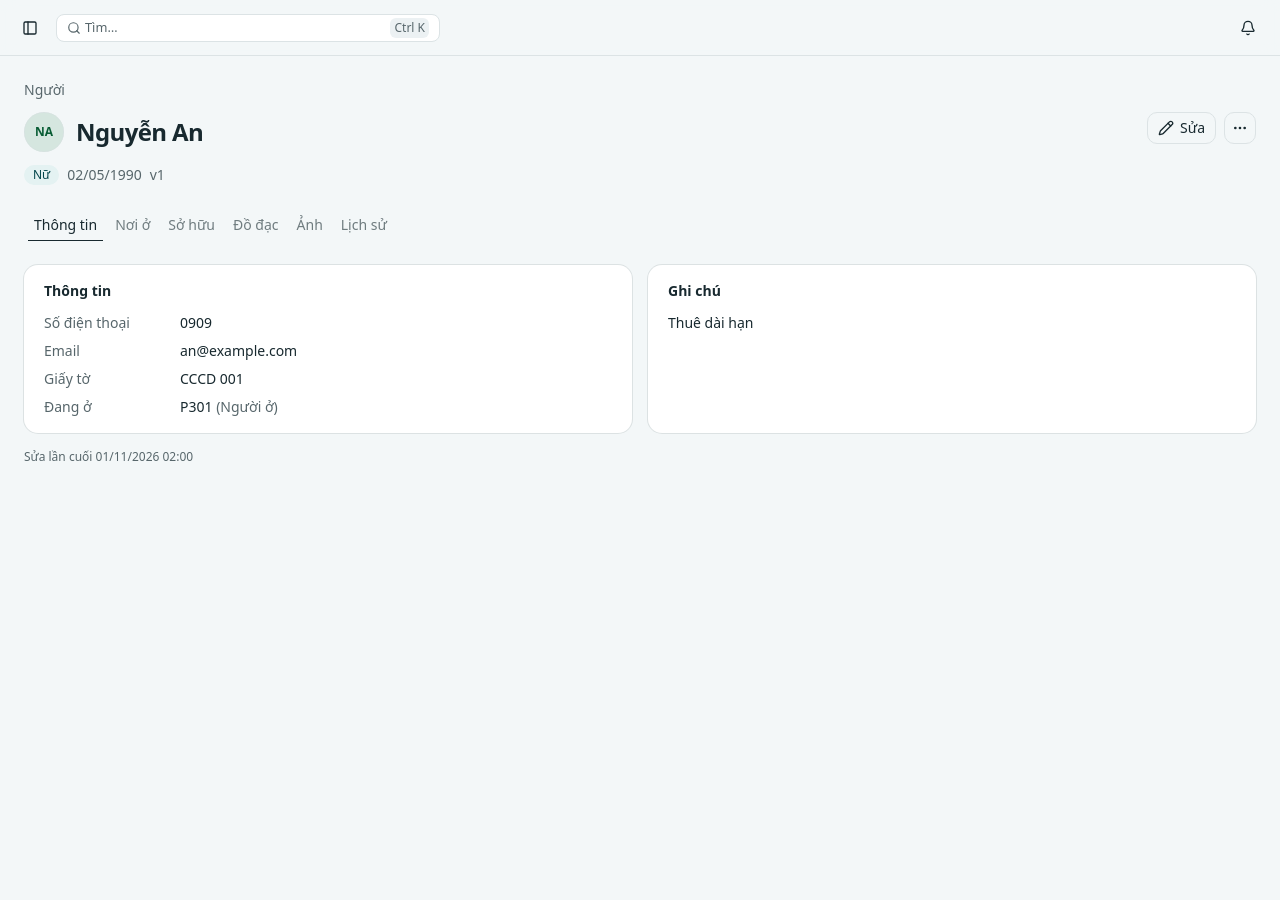
deleteIsBlockedWhileTheyLiveSomewhere
Step 1. Click the button named "Thao tác khác" → [1240, 128], box [1224,112,1256,144]
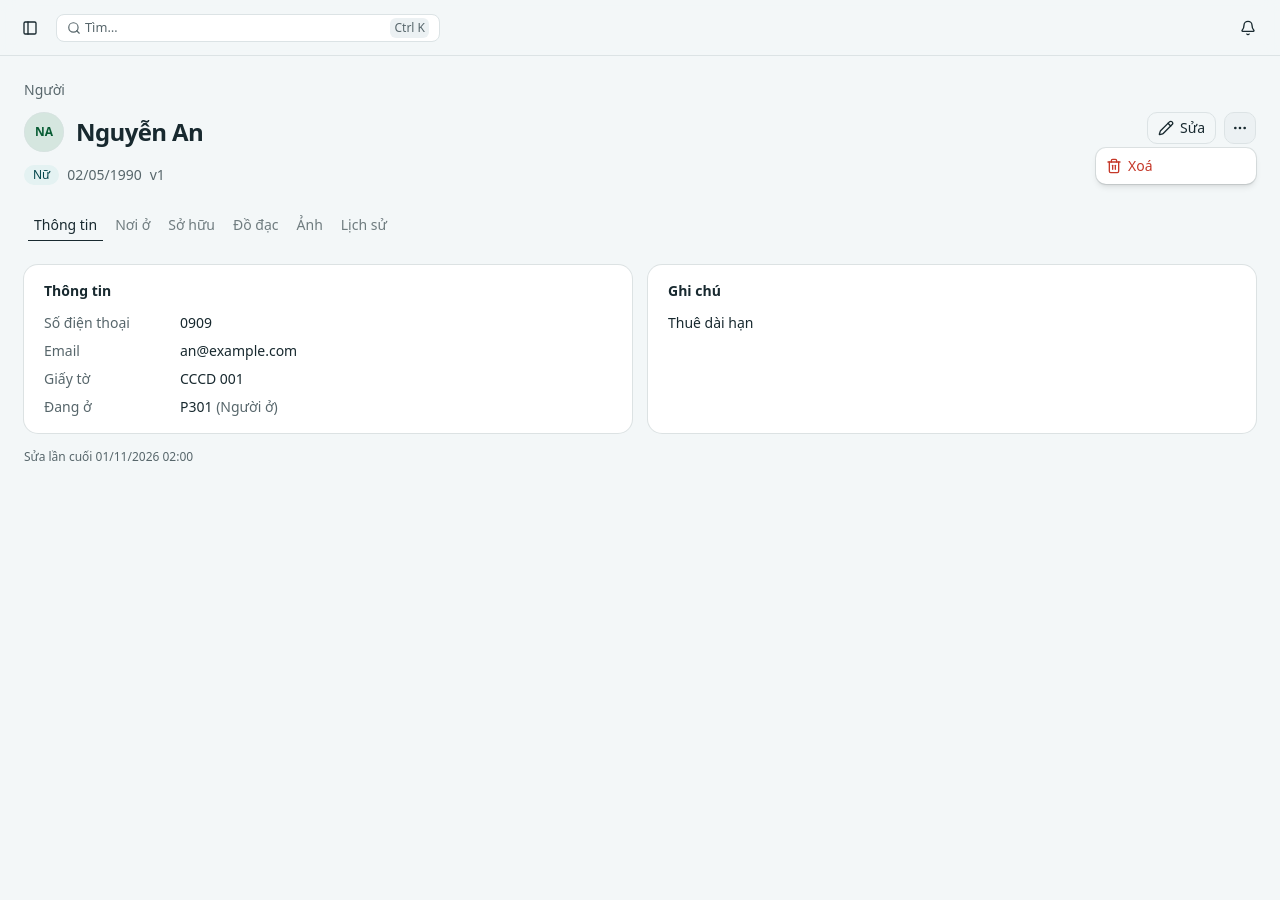
Step 2. Click the menu item "Xoá" → [1129, 166], box [1106,156,1152,175]
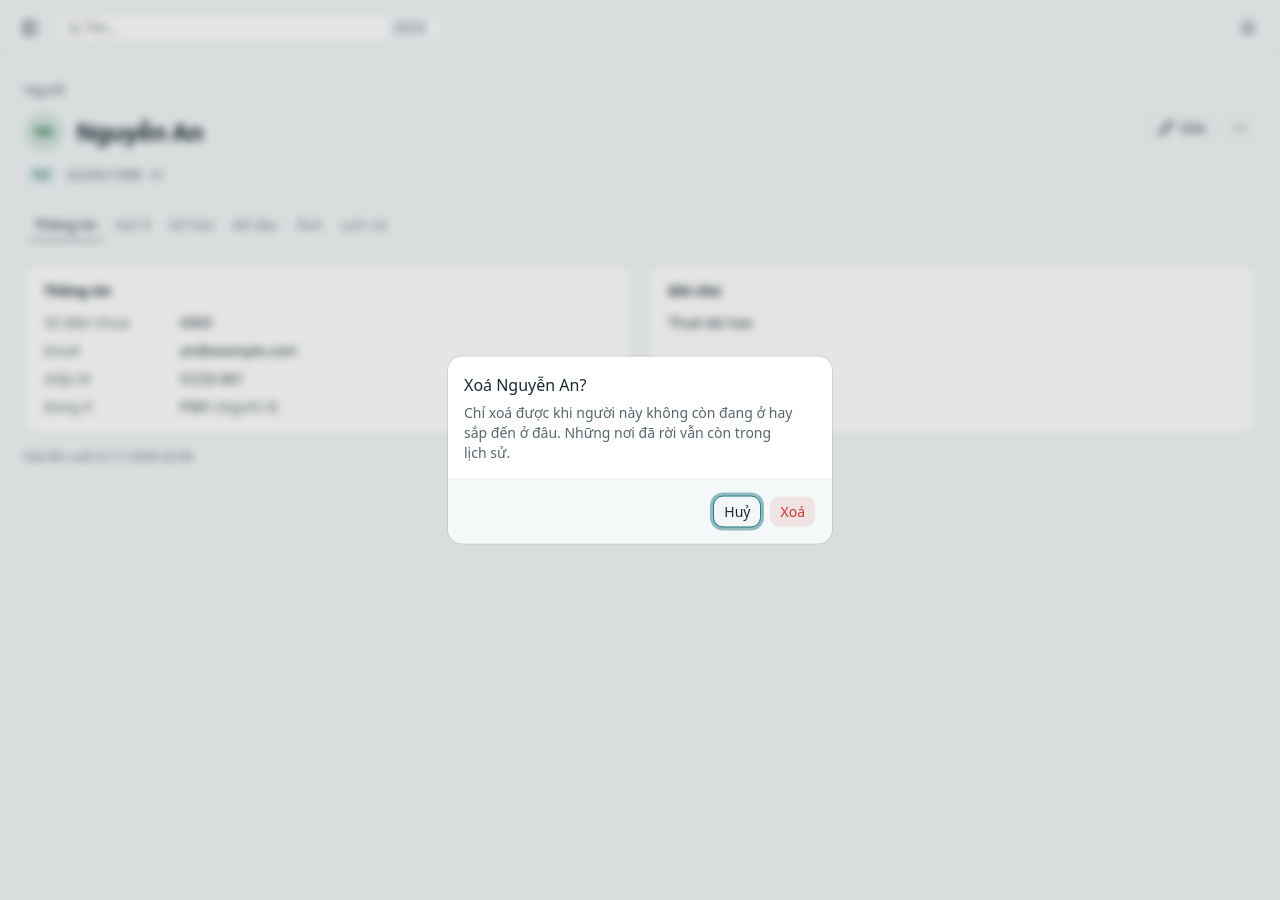
Step 3. Click the button "Xoá" → [793, 512], box [770,496,816,528]
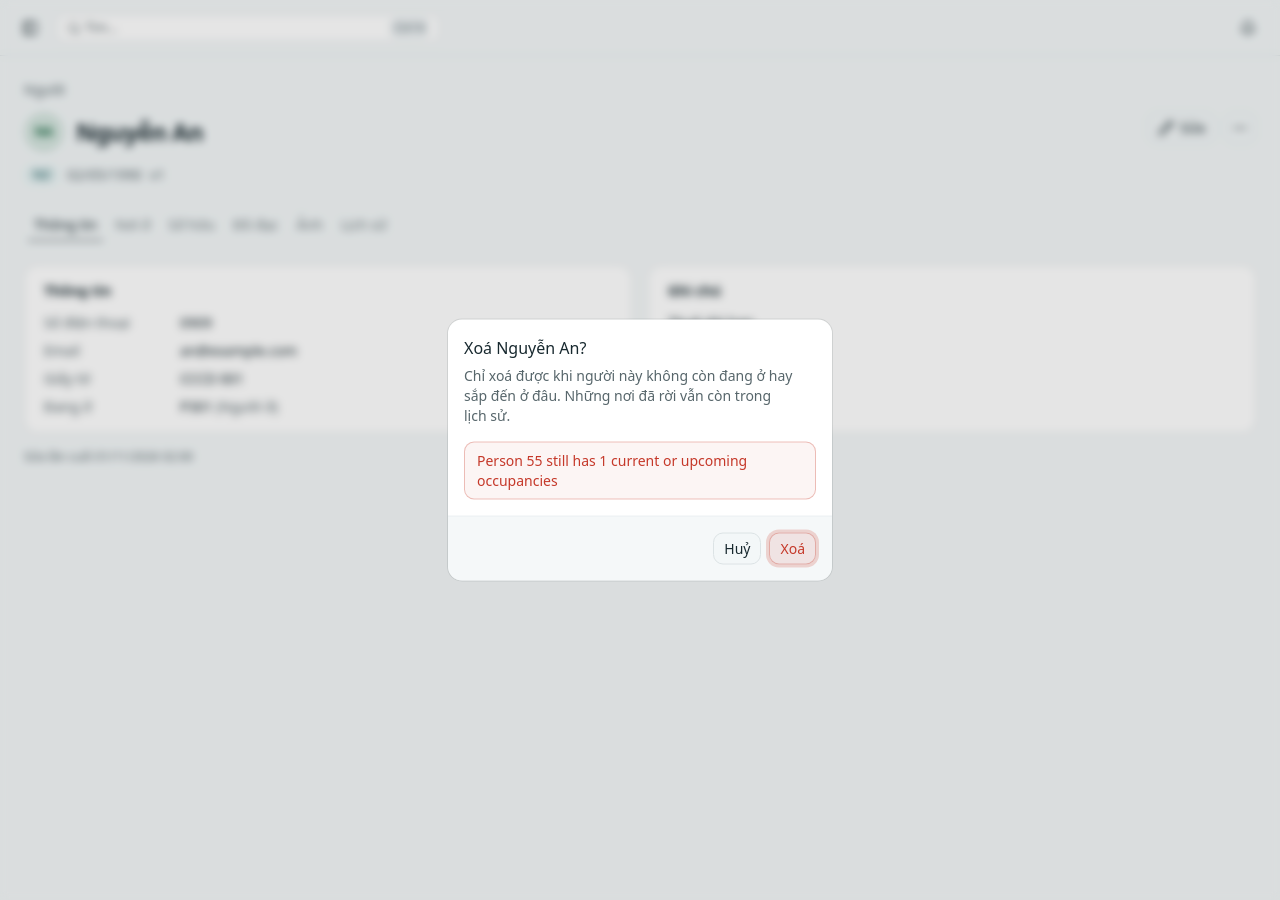
Expected: the text "Person 55 still has 1 current or upcoming occupancies" is shown, [477,450,747,490]
